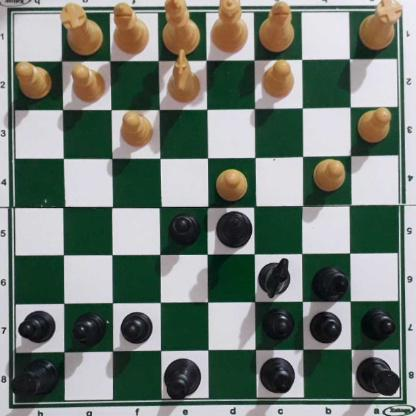black-bishop: (258, 358, 299, 395), (311, 267, 351, 301)
black-king: (164, 357, 203, 401)
black-knight: (260, 262, 292, 301)
black-pawn: (20, 311, 57, 347), (168, 215, 203, 250), (121, 313, 154, 348), (362, 312, 396, 345), (311, 312, 343, 347), (264, 311, 295, 346), (73, 315, 105, 348)
black-queen: (217, 212, 253, 250)
black-rook: (357, 358, 404, 401), (14, 361, 58, 406)
white-bishop: (113, 2, 151, 56), (261, 3, 295, 56)
white-king: (161, 0, 201, 58)
white-knight: (165, 49, 202, 105)
white-pawn: (69, 66, 107, 106), (16, 65, 53, 102), (312, 159, 349, 196), (262, 62, 297, 101), (358, 109, 394, 145), (121, 113, 155, 151), (217, 169, 249, 203)
white-queen: (211, 0, 250, 55)
white-rook: (59, 2, 104, 53), (361, 0, 401, 55)
